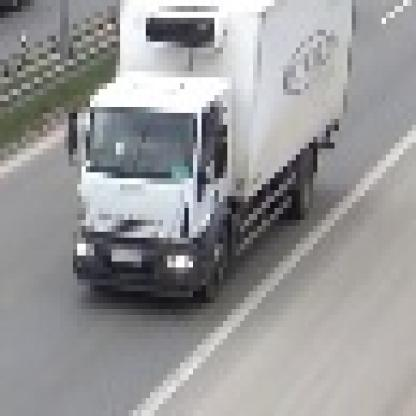truck: (61, 1, 348, 298)
